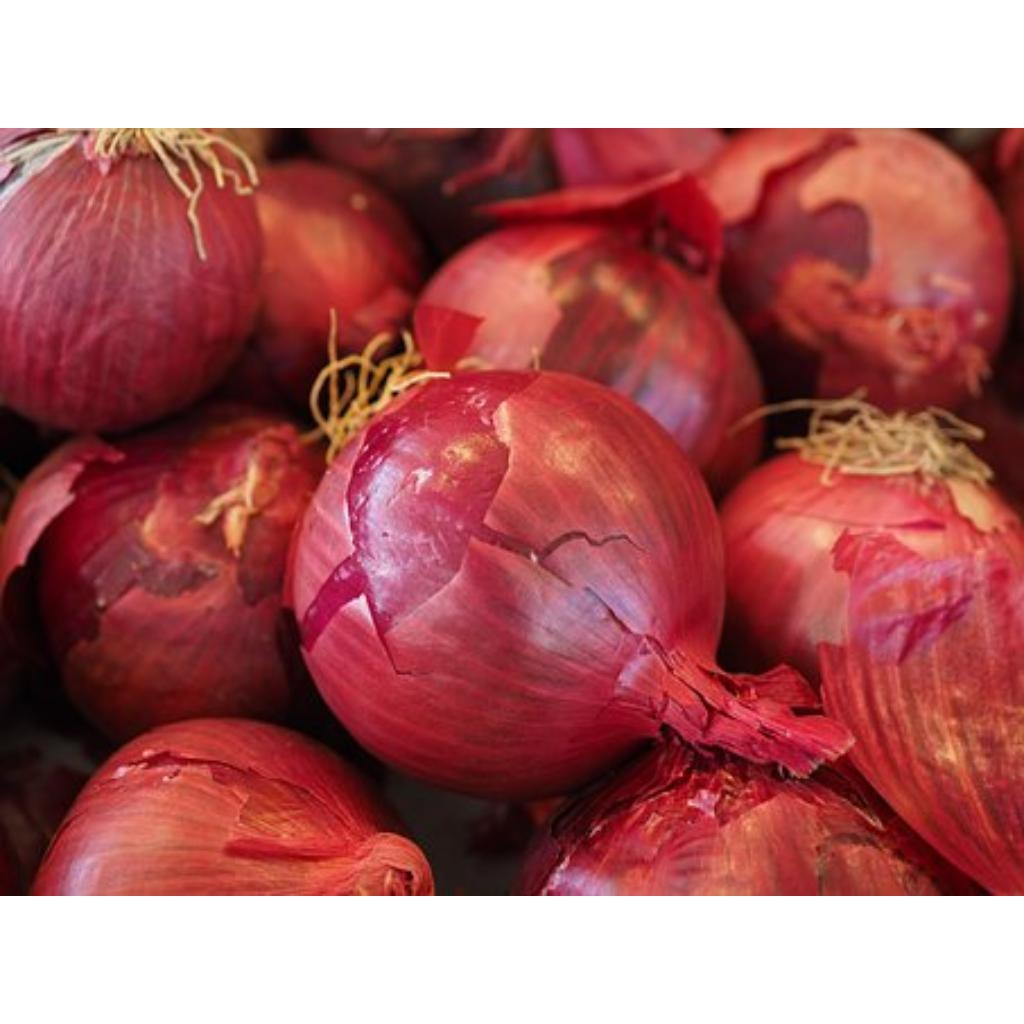Onion: (289, 372, 852, 800), (0, 128, 262, 432), (32, 723, 434, 897)
